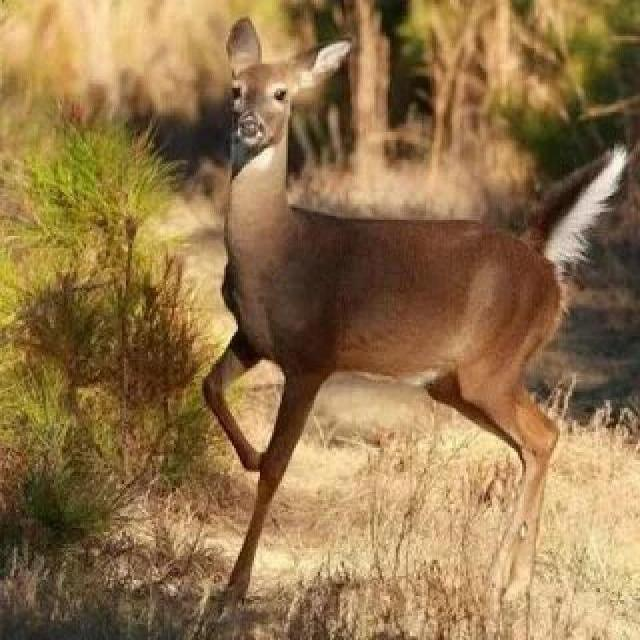deer: (207, 25, 640, 612)
